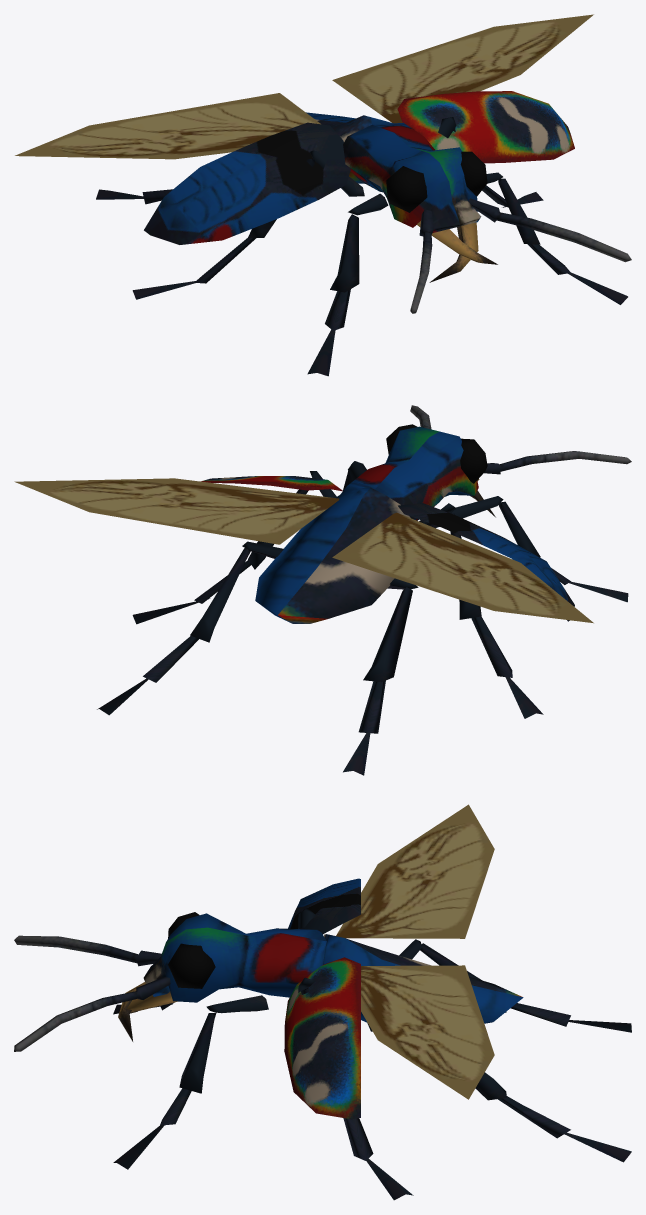
The model's file is InsectHanmyou.glb.
3 views of the same model, one above another, from view 1: azimuth 30°, elevation 25°; view 2: azimuth 150°, elevation 25°; view 3: azimuth 270°, elevation 25° (orthographic). The views are drawn at different scales.
Visible parts, largest first — view 1: InsectKamakiri_InsectSeminonukegara_pCube32__mHanmyou, pCube28__mWing; view 2: InsectKamakiri_InsectSeminonukegara_pCube32__mHanmyou, pCube28__mWing; view 3: InsectKamakiri_InsectSeminonukegara_pCube32__mHanmyou, pCube28__mWing.
Part boxes in pixels (left/top/right/bottom): InsectKamakiri_InsectSeminonukegara_pCube32__mHanmyou: left=96, top=91, right=631, bottom=376; pCube28__mWing: left=15, top=14, right=593, bottom=159; InsectKamakiri_InsectSeminonukegara_pCube32__mHanmyou: left=97, top=405, right=631, bottom=775; pCube28__mWing: left=14, top=478, right=593, bottom=623; InsectKamakiri_InsectSeminonukegara_pCube32__mHanmyou: left=14, top=878, right=631, bottom=1200; pCube28__mWing: left=336, top=804, right=494, bottom=1099.
Size of the model in its own units: 3.72 by 0.994 by 3.29.
Materials: 2 (2 with a texture image).
